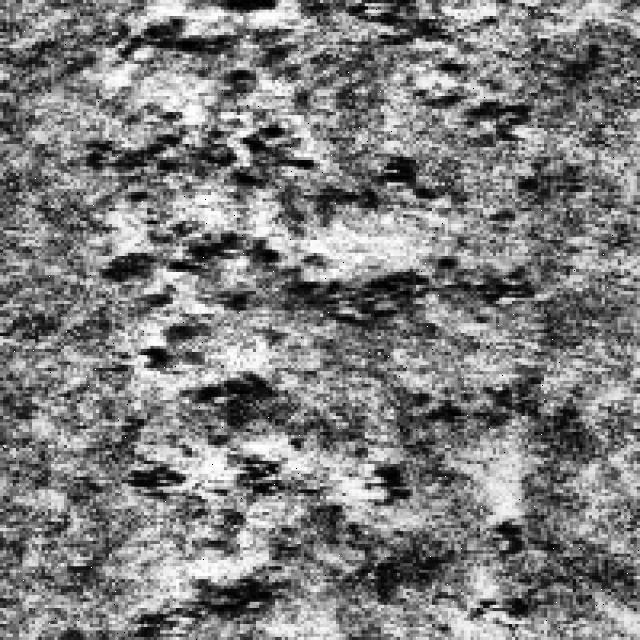Crazing: (138, 192, 516, 608), (96, 0, 531, 182)
